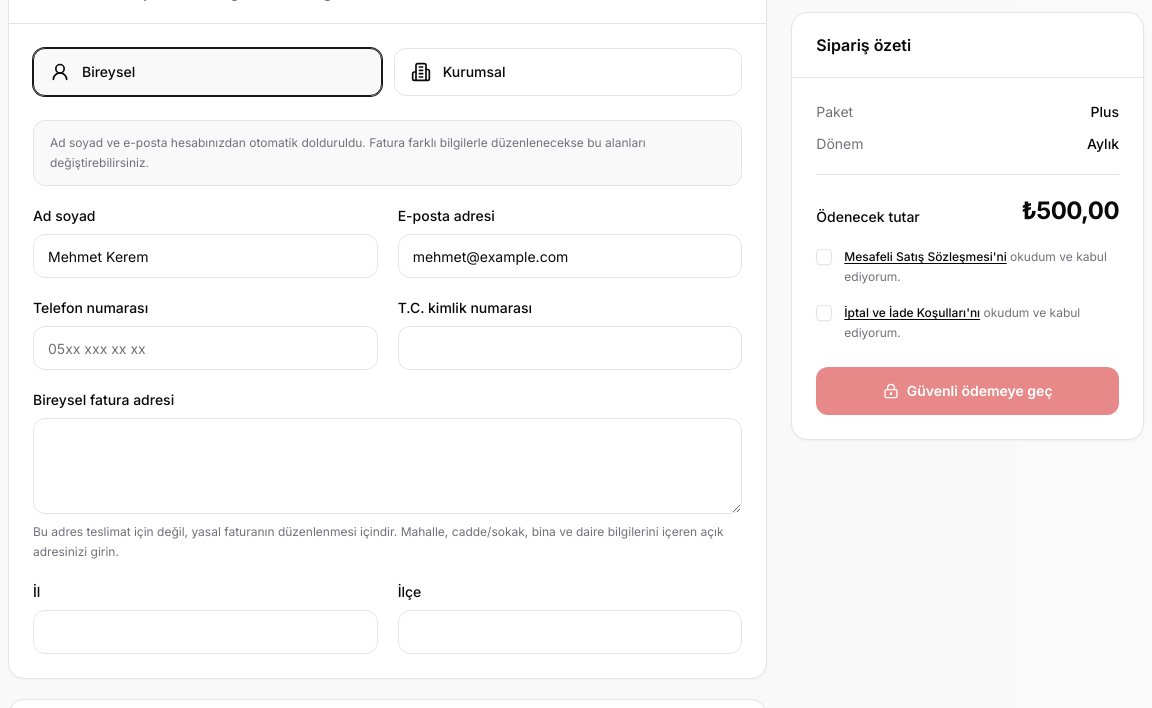
Test: checkout flow › prefills account identity and validates incomplete fields while typing
The width and height of the screenshot is (1152, 708).
(page scrolled)
Check: the field labelled "Ad soyad" holds "Mehmet Kerem", box x1=33 y1=234 x2=378 y2=278
Check: the field labelled "E-posta adresi" holds "mehmet@example.com", box x1=398 y1=234 x2=742 y2=278
In the field labelled "Telefon numarası": (205, 348) x1=33 y1=326 x2=378 y2=370, type "0555 555 55"
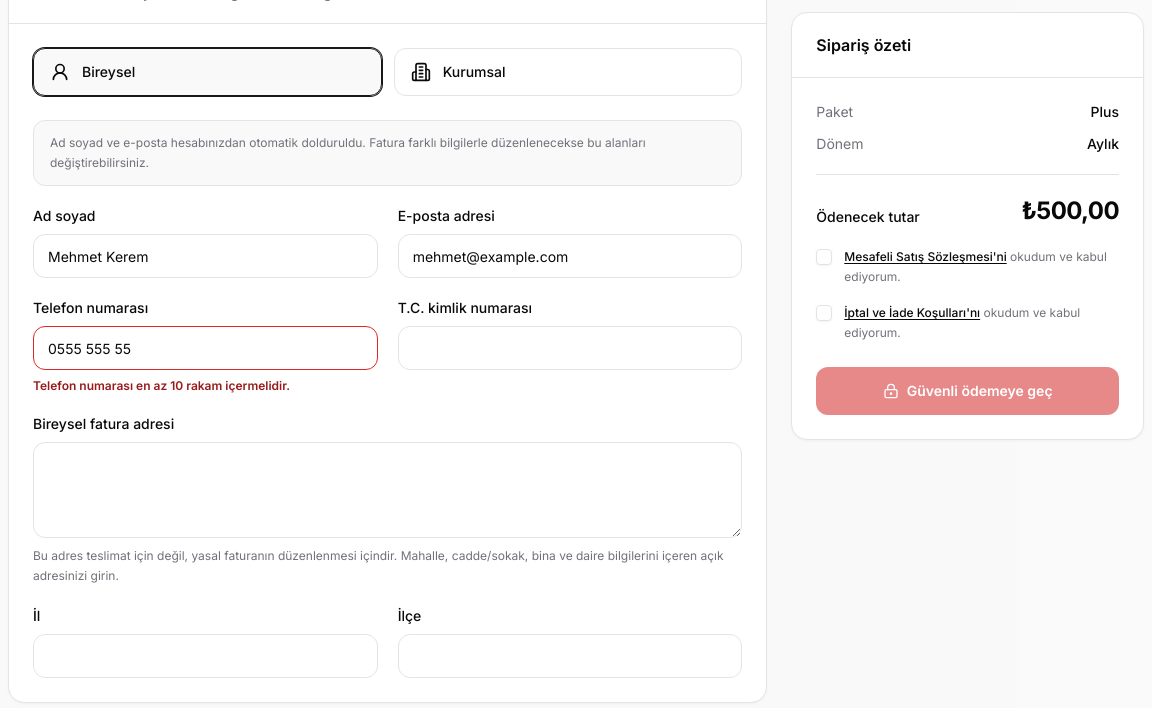
Check: the text "Telefon numarası en az 10 rakam içermelidir." is shown, box x1=33 y1=378 x2=290 y2=393
Replace the text in the field labelled "Telefon numarası" with "0555 555 55 55": (205, 348) x1=33 y1=326 x2=378 y2=370
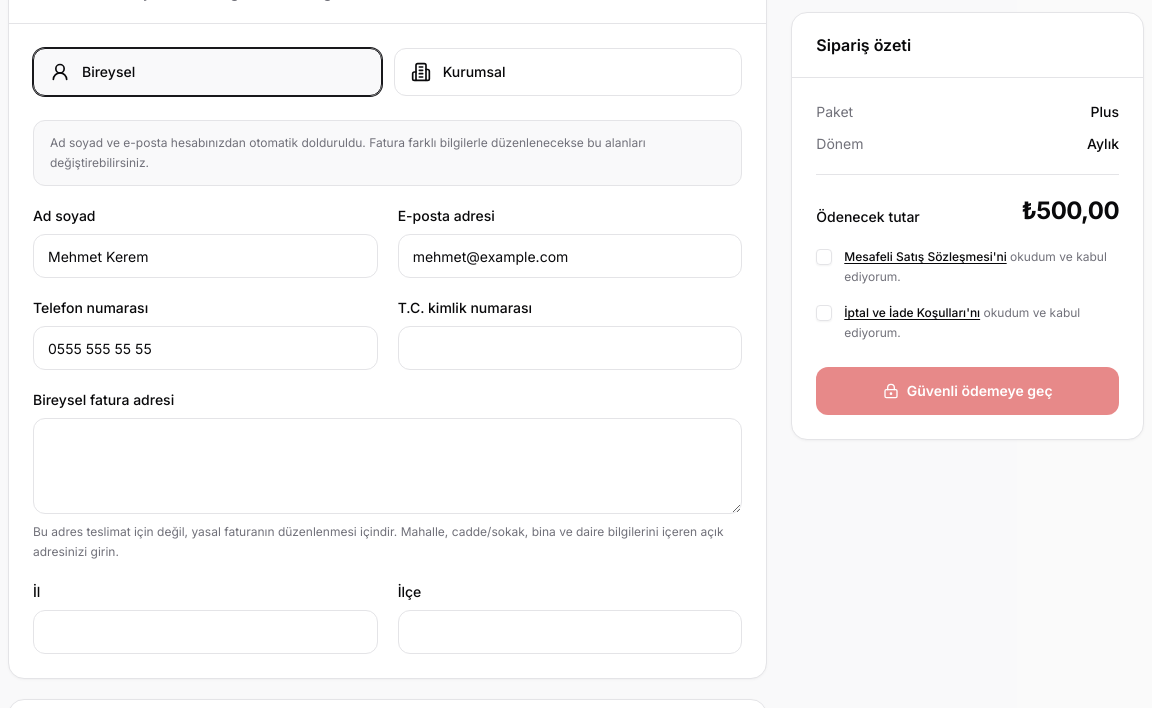
Check: the text "Telefon numarası en az 10 rakam içermelidir." is gone
